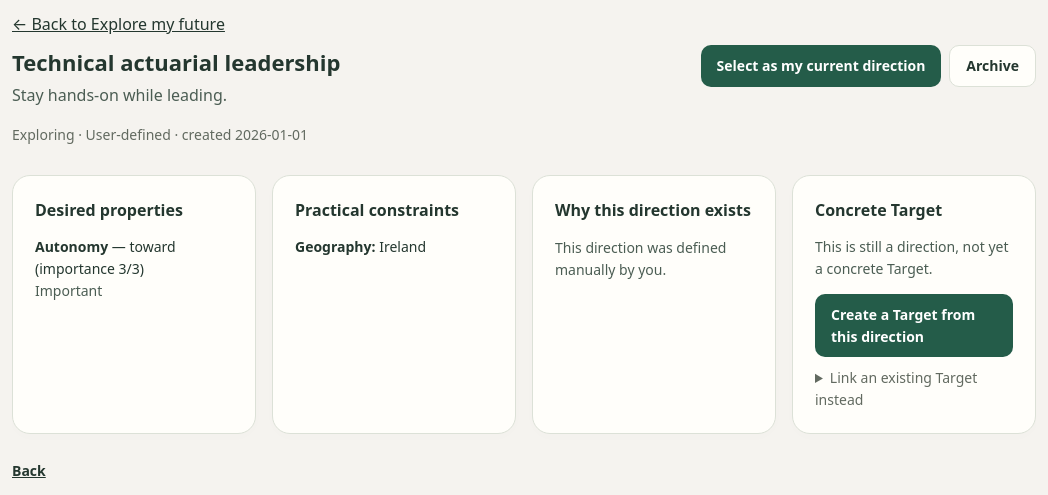
Test case: Career Direction detail — selection › archives and then offers to reopen
Click the button "Archive": (993, 66) [949,45,1036,87]
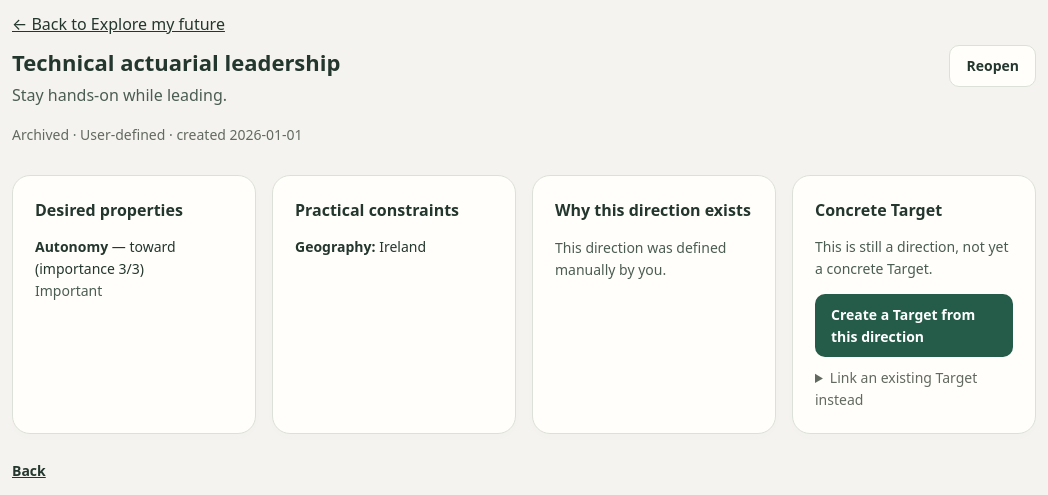
Result: the button "Reopen" is shown at [950,45,1036,87]
